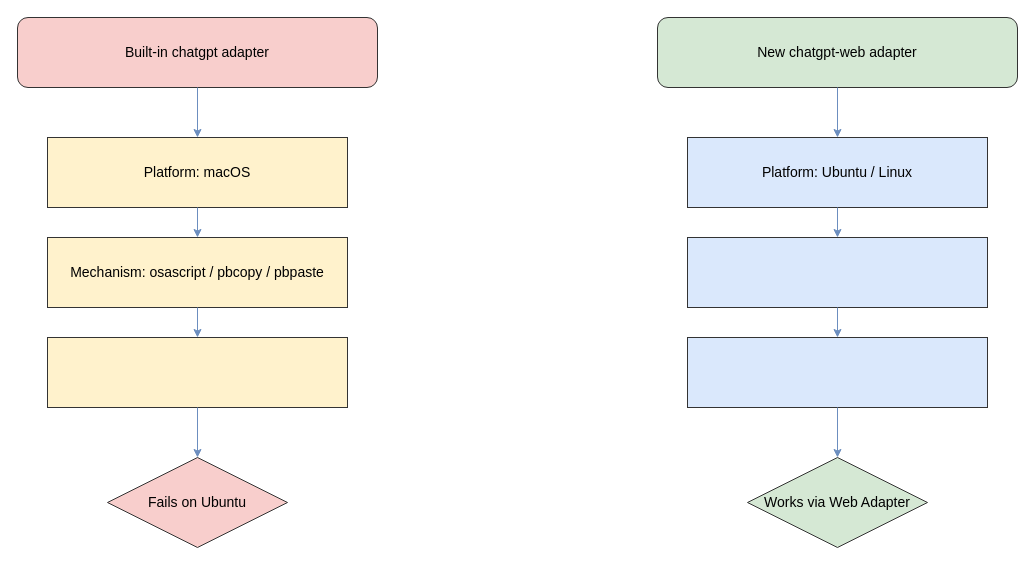
Some shapes in this 1035 by 565 pixel diagram are drawn without their labels. Each missing label, with the centre of its shape:
"Mechanism: OpenCLI browser/page abstraction" goes at [837,272].
"Target: ChatGPT Desktop App" goes at [197,372].
"Target: Chrome + ChatGPT Web" goes at [837,372].
